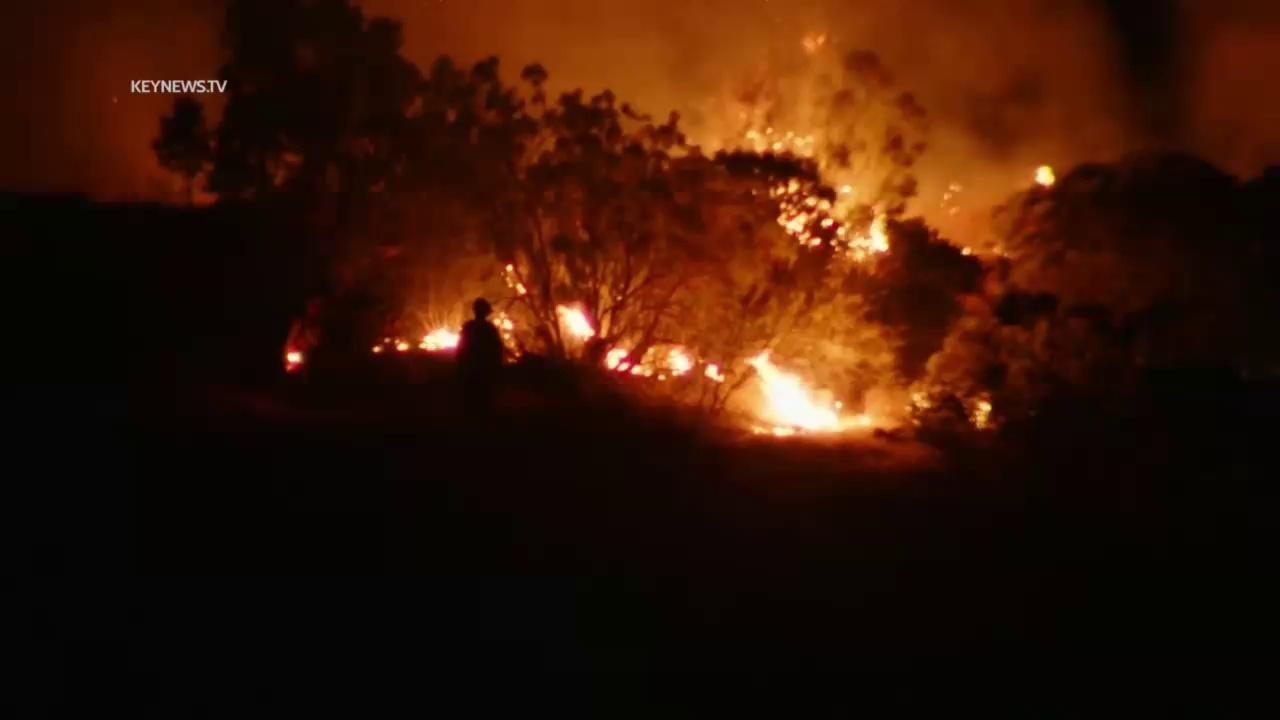fire: (771, 174, 893, 264), (739, 351, 847, 438), (742, 124, 815, 160), (550, 299, 596, 344), (418, 326, 462, 354), (604, 346, 644, 375), (501, 262, 529, 298), (671, 344, 697, 380), (283, 343, 307, 376), (489, 310, 514, 341), (1033, 163, 1056, 190), (703, 361, 727, 384), (385, 335, 411, 352), (370, 344, 385, 354)
smoke: (0, 0, 1280, 267)
